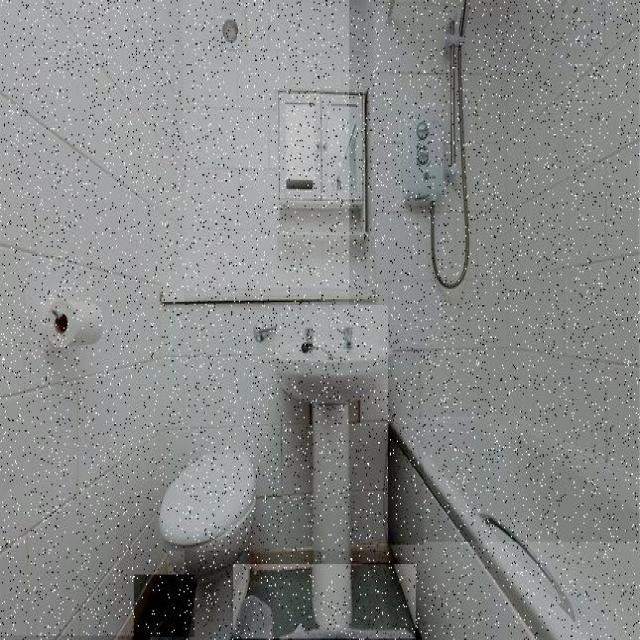Wall: (350, 0, 639, 542), (0, 0, 185, 636), (164, 305, 388, 551), (182, 0, 369, 289), (351, 347, 424, 545), (233, 564, 416, 639), (135, 575, 194, 637), (0, 248, 23, 396), (436, 173, 464, 280)
